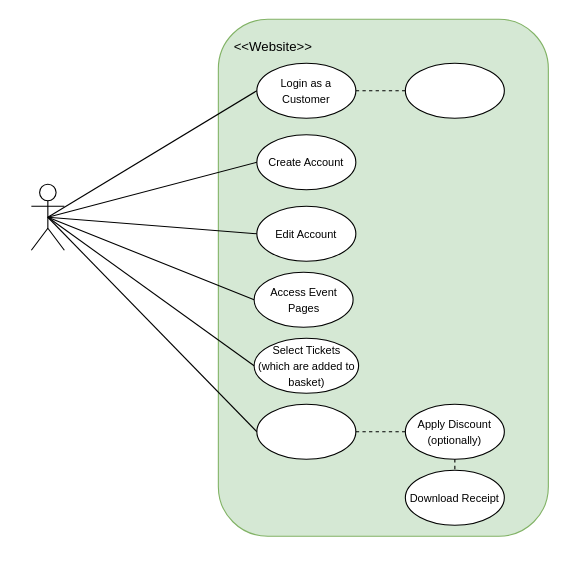
This 568x564 diagram has some shape labels left out. Each missing label, with the centre of its shape:
Customer: pixel 47 216
Logout: pixel 454 90
Place Order: pixel 306 431
